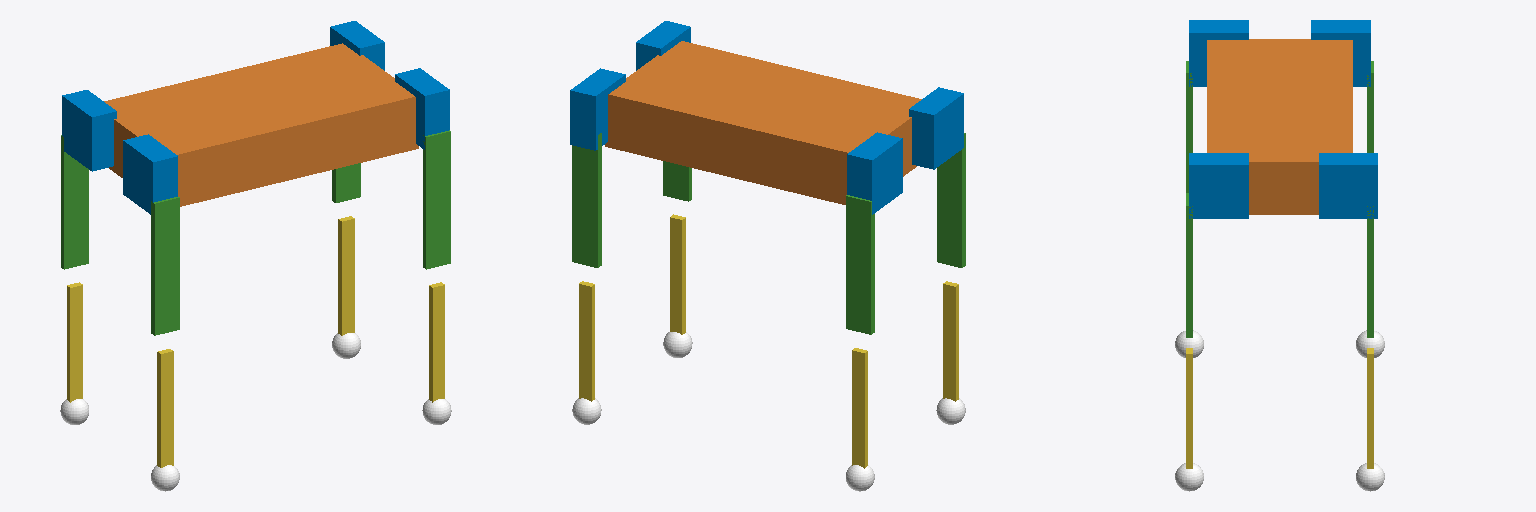
The robot description file, URDF, robot "Cat":
<?xml version="1.0" ?>
<!-- =================================================================================== -->
<!-- |    This document was autogenerated by xacro from model8.urdf.xacro              | -->
<!-- |    EDITING THIS FILE BY HAND IS NOT RECOMMENDED                                 | -->
<!-- =================================================================================== -->
<!--
            z    y
            ^   ^
            |  /
            | /
      _______________ > x
-->
<robot name="Cat" xmlns:xacro="http://www.ros.org/wiki/xacro">
  <link name="chassis">
    <collision>
      <origin rpy="0 0 0" xyz="0 0 0.005"/>
      <geometry>
        <box size="0.2 0.1 0.04"/>
      </geometry>
    </collision>
    <inertial>
      <mass value="1.0"/>
      <inertia ixx="0.0009666666666666669" ixy="0.0" ixz="0.0" iyy="0.003466666666666667" iyz="0.0" izz="0.0041666666666666675"/>
    </inertial>
    <visual>
      <origin rpy="0 0 0" xyz="0 0 0.005"/>
      <geometry>
        <box size="0.2 0.1 0.04"/>
      </geometry>
      <material name="white">
        <color rgba="0.89 0.548 0.239 1"/>
      </material>
    </visual>
  </link>
  <link name="fl1_link">
    <collision>
      <origin rpy="0 0 0" xyz="-0.0 -0.005 0.01"/>
      <geometry>
        <box size="0.02 0.041 0.041"/>
      </geometry>
    </collision>
    <inertial>
      <mass value="0.14"/>
      <inertia ixx="3.922333333333334e-05" ixy="0.0" ixz="0.0" iyy="2.4278333333333338e-05" iyz="0.0" izz="2.4278333333333338e-05"/>
    </inertial>
    <visual>
      <origin rpy="0 0 0" xyz="-0.0 -0.005 0.01"/>
      <geometry>
        <box size="0.02 0.041 0.041"/>
      </geometry>
      <material name="white">
        <color rgba="0.0 0.56 0.854 1"/>
      </material>
    </visual>
  </link>
  <link name="fl2_link">
    <collision>
      <origin rpy="0 0 0" xyz="0 0 -0.03"/>
      <geometry>
        <box size="0.02 0.005 0.1"/>
      </geometry>
    </collision>
    <inertial>
      <mass value="0.02"/>
      <inertia ixx="1.6708333333333337e-05" ixy="0.0" ixz="0.0" iyy="1.7333333333333336e-05" iyz="0.0" izz="7.083333333333334e-07"/>
    </inertial>
    <visual>
      <origin rpy="0 0 0" xyz="0 0 -0.03"/>
      <geometry>
        <box size="0.02 0.005 0.1"/>
      </geometry>
      <material name="white">
        <color rgba="0.316 0.669 0.261 1"/>
      </material>
    </visual>
  </link>
  <link name="fl3_link">
    <collision>
      <origin rpy="0 0 0" xyz="0 0.0 -0.04"/>
      <geometry>
        <box size="0.01 0.005 0.09"/>
      </geometry>
    </collision>
    <inertial>
      <mass value="0.03"/>
      <inertia ixx="2.03125e-05" ixy="0.0" ixz="0.0" iyy="2.0499999999999993e-05" iyz="0.0" izz="3.1249999999999997e-07"/>
    </inertial>
    <visual>
      <origin rpy="0 0 0" xyz="0 0.0 -0.04"/>
      <geometry>
        <box size="0.01 0.005 0.09"/>
      </geometry>
      <material name="white">
        <color rgba="0.917 0.814 0.261 1"/>
      </material>
    </visual>
  </link>
  <link name="fl4_link">
    <collision>
      <origin rpy="0 0 0" xyz="0 0.0 0.01"/>
      <geometry>
        <sphere radius="0.01"/>
      </geometry>
    </collision>
    <inertial>
      <mass value="0.01"/>
      <origin xyz="0 0 0"/>
      <inertia ixx="1.0000000000000001e-07" ixy="0.0" ixz="0.0" iyy="1.0000000000000001e-07" iyz="0.0" izz="1.0000000000000001e-07"/>
    </inertial>
    <contact>
      <friction_anchor/>
      <stiffness value="10000.0"/>
      <inertia_scaling value="0.1"/>
      <damping value="10.0"/>
      <lateral_friction value="1"/>
    </contact>
    <visual>
      <origin rpy="0 0 0" xyz="0 0.0 0.01"/>
      <geometry>
        <sphere radius="0.01"/>
      </geometry>
      <material name="white">
        <color rgba="1 1 1 1"/>
      </material>
    </visual>
  </link>
  <link name="fr1_link">
    <collision>
      <origin rpy="0 0 0" xyz="0.0 0.01 0.01"/>
      <geometry>
        <box size="0.02 0.041 0.041"/>
      </geometry>
    </collision>
    <inertial>
      <mass value="0.14"/>
      <inertia ixx="3.922333333333334e-05" ixy="0.0" ixz="0.0" iyy="2.4278333333333338e-05" iyz="0.0" izz="2.4278333333333338e-05"/>
    </inertial>
    <visual>
      <origin rpy="0 0 0" xyz="0.0 0.01 0.01"/>
      <geometry>
        <box size="0.02 0.041 0.041"/>
      </geometry>
      <material name="white">
        <color rgba="0.0 0.56 0.854 1"/>
      </material>
    </visual>
  </link>
  <link name="fr2_link">
    <collision>
      <origin rpy="0 0 0" xyz="0 0 -0.03"/>
      <geometry>
        <box size="0.02 0.005 0.1"/>
      </geometry>
    </collision>
    <inertial>
      <mass value="0.02"/>
      <inertia ixx="1.6708333333333337e-05" ixy="0.0" ixz="0.0" iyy="1.7333333333333336e-05" iyz="0.0" izz="7.083333333333334e-07"/>
    </inertial>
    <visual>
      <origin rpy="0 0 0" xyz="0 0 -0.03"/>
      <geometry>
        <box size="0.02 0.005 0.1"/>
      </geometry>
      <material name="white">
        <color rgba="0.316 0.669 0.261 1"/>
      </material>
    </visual>
  </link>
  <link name="fr3_link">
    <collision>
      <origin rpy="0 0 0" xyz="0 0.0 -0.04"/>
      <geometry>
        <box size="0.01 0.005 0.09"/>
      </geometry>
    </collision>
    <inertial>
      <mass value="0.03"/>
      <inertia ixx="2.03125e-05" ixy="0.0" ixz="0.0" iyy="2.0499999999999993e-05" iyz="0.0" izz="3.1249999999999997e-07"/>
    </inertial>
    <visual>
      <origin rpy="0 0 0" xyz="0 0.0 -0.04"/>
      <geometry>
        <box size="0.01 0.005 0.09"/>
      </geometry>
      <material name="white">
        <color rgba="0.917 0.814 0.261 1"/>
      </material>
    </visual>
  </link>
  <link name="fr4_link">
    <collision>
      <origin rpy="0 0 0" xyz="0 0.0 0.01"/>
      <geometry>
        <sphere radius="0.01"/>
      </geometry>
    </collision>
    <inertial>
      <mass value="0.01"/>
      <origin xyz="0 0 0"/>
      <inertia ixx="1.0000000000000001e-07" ixy="0.0" ixz="0.0" iyy="1.0000000000000001e-07" iyz="0.0" izz="1.0000000000000001e-07"/>
    </inertial>
    <contact>
      <friction_anchor/>
      <stiffness value="10000.0"/>
      <inertia_scaling value="0.1"/>
      <damping value="10.0"/>
      <lateral_friction value="1"/>
    </contact>
    <visual>
      <origin rpy="0 0 0" xyz="0 0.0 0.01"/>
      <geometry>
        <sphere radius="0.01"/>
      </geometry>
      <material name="white">
        <color rgba="1 1 1 1"/>
      </material>
    </visual>
  </link>
  <link name="bl1_link">
    <collision>
      <origin rpy="0 0 0" xyz="0.0 -0.01 0.01"/>
      <geometry>
        <box size="0.02 0.041 0.041"/>
      </geometry>
    </collision>
    <inertial>
      <mass value="0.14"/>
      <inertia ixx="3.922333333333334e-05" ixy="0.0" ixz="0.0" iyy="2.4278333333333338e-05" iyz="0.0" izz="2.4278333333333338e-05"/>
    </inertial>
    <visual>
      <origin rpy="0 0 0" xyz="0.0 -0.01 0.01"/>
      <geometry>
        <box size="0.02 0.041 0.041"/>
      </geometry>
      <material name="white">
        <color rgba="0.0 0.56 0.854 1"/>
      </material>
    </visual>
  </link>
  <link name="bl2_link">
    <collision>
      <origin rpy="0 0 0" xyz="0 0 -0.03"/>
      <geometry>
        <box size="0.02 0.005 0.1"/>
      </geometry>
    </collision>
    <inertial>
      <mass value="0.02"/>
      <inertia ixx="1.6708333333333337e-05" ixy="0.0" ixz="0.0" iyy="1.7333333333333336e-05" iyz="0.0" izz="7.083333333333334e-07"/>
    </inertial>
    <visual>
      <origin rpy="0 0 0" xyz="0 0 -0.03"/>
      <geometry>
        <box size="0.02 0.005 0.1"/>
      </geometry>
      <material name="white">
        <color rgba="0.316 0.669 0.261 1"/>
      </material>
    </visual>
  </link>
  <link name="bl3_link">
    <collision>
      <origin rpy="0 0 0" xyz="0 0.0 -0.04"/>
      <geometry>
        <box size="0.01 0.005 0.09"/>
      </geometry>
    </collision>
    <inertial>
      <mass value="0.03"/>
      <inertia ixx="2.03125e-05" ixy="0.0" ixz="0.0" iyy="2.0499999999999993e-05" iyz="0.0" izz="3.1249999999999997e-07"/>
    </inertial>
    <visual>
      <origin rpy="0 0 0" xyz="0 0.0 -0.04"/>
      <geometry>
        <box size="0.01 0.005 0.09"/>
      </geometry>
      <material name="white">
        <color rgba="0.917 0.814 0.261 1"/>
      </material>
    </visual>
  </link>
  <link name="bl4_link">
    <collision>
      <origin rpy="0 0 0" xyz="0 0.0 0.01"/>
      <geometry>
        <sphere radius="0.01"/>
      </geometry>
    </collision>
    <inertial>
      <mass value="0.01"/>
      <origin xyz="0 0 0"/>
      <inertia ixx="1.0000000000000001e-07" ixy="0.0" ixz="0.0" iyy="1.0000000000000001e-07" iyz="0.0" izz="1.0000000000000001e-07"/>
    </inertial>
    <contact>
      <friction_anchor/>
      <stiffness value="10000.0"/>
      <inertia_scaling value="0.1"/>
      <damping value="10.0"/>
      <lateral_friction value="1"/>
    </contact>
    <visual>
      <origin rpy="0 0 0" xyz="0 0.0 0.01"/>
      <geometry>
        <sphere radius="0.01"/>
      </geometry>
      <material name="white">
        <color rgba="1 1 1 1"/>
      </material>
    </visual>
  </link>
  <link name="br1_link">
    <collision>
      <origin rpy="0 0 0" xyz="0.0 0.01 0.01"/>
      <geometry>
        <box size="0.02 0.041 0.041"/>
      </geometry>
    </collision>
    <inertial>
      <mass value="0.14"/>
      <inertia ixx="3.922333333333334e-05" ixy="0.0" ixz="0.0" iyy="2.4278333333333338e-05" iyz="0.0" izz="2.4278333333333338e-05"/>
    </inertial>
    <visual>
      <origin rpy="0 0 0" xyz="0.0 0.01 0.01"/>
      <geometry>
        <box size="0.02 0.041 0.041"/>
      </geometry>
      <material name="white">
        <color rgba="0.0 0.56 0.854 1"/>
      </material>
    </visual>
  </link>
  <link name="br2_link">
    <collision>
      <origin rpy="0 0 0" xyz="0 0 -0.03"/>
      <geometry>
        <box size="0.02 0.005 0.1"/>
      </geometry>
    </collision>
    <inertial>
      <mass value="0.02"/>
      <inertia ixx="1.6708333333333337e-05" ixy="0.0" ixz="0.0" iyy="1.6833333333333334e-05" iyz="0.0" izz="2.0833333333333333e-07"/>
    </inertial>
    <visual>
      <origin rpy="0 0 0" xyz="0 0 -0.03"/>
      <geometry>
        <box size="0.02 0.005 0.1"/>
      </geometry>
      <material name="white">
        <color rgba="0.316 0.669 0.261 1"/>
      </material>
    </visual>
  </link>
  <link name="br3_link">
    <collision>
      <origin rpy="0 0 0" xyz="0 0.0 -0.04"/>
      <geometry>
        <box size="0.01 0.005 0.09"/>
      </geometry>
    </collision>
    <inertial>
      <mass value="0.03"/>
      <inertia ixx="2.03125e-05" ixy="0.0" ixz="0.0" iyy="2.0499999999999993e-05" iyz="0.0" izz="3.1249999999999997e-07"/>
    </inertial>
    <visual>
      <origin rpy="0 0 0" xyz="0 0.0 -0.04"/>
      <geometry>
        <box size="0.01 0.005 0.09"/>
      </geometry>
      <material name="white">
        <color rgba="0.917 0.814 0.261 1"/>
      </material>
    </visual>
  </link>
  <link name="br4_link">
    <collision>
      <origin rpy="0 0 0" xyz="0 0.0 0.01"/>
      <geometry>
        <sphere radius="0.01"/>
      </geometry>
    </collision>
    <inertial>
      <mass value="0.01"/>
      <origin xyz="0 0 0"/>
      <inertia ixx="1.0000000000000001e-07" ixy="0.0" ixz="0.0" iyy="1.0000000000000001e-07" iyz="0.0" izz="1.0000000000000001e-07"/>
    </inertial>
    <contact>
      <friction_anchor/>
      <stiffness value="10000.0"/>
      <inertia_scaling value="0.1"/>
      <damping value="10.0"/>
      <lateral_friction value="1"/>
    </contact>
    <visual>
      <origin rpy="0 0 0" xyz="0 0.0 0.01"/>
      <geometry>
        <sphere radius="0.01"/>
      </geometry>
      <material name="white">
        <color rgba="1 1 1 1"/>
      </material>
    </visual>
  </link>
  <link name="mz_link">
    <collision>
      <origin rpy="0 0 0" xyz="0 0.0 0.0"/>
      <geometry>
        <box size="0.05 0.05 0.01"/>
      </geometry>
    </collision>
    <inertial>
      <mass value="0.0001"/>
      <inertia ixx="0.001" ixy="0.0" ixz="0.0" iyy="0.001" iyz="0.0" izz="0.001"/>
    </inertial>
  </link>
  <link name="my_link">
    <collision>
      <origin rpy="0 0 0" xyz="0 0.0 0.0"/>
      <geometry>
        <box size="0.02 0.02 0.05"/>
      </geometry>
    </collision>
    <inertial>
      <mass value="0.0001"/>
      <inertia ixx="0.001" ixy="0.0" ixz="0.0" iyy="0.001" iyz="0.0" izz="0.001"/>
    </inertial>
  </link>
  <!-- front left -->
  <joint name="fl1" type="revolute">
    <parent link="chassis"/>
    <child link="fl1_link"/>
    <origin rpy="0 0 0" xyz="0.1075 0.052 0"/>
    <axis xyz="1 0 0"/>
    <limit effort="100" lower="-0.398132" upper="0.698132" velocity="100"/>
  </joint>
  <joint name="fl2" type="revolute">
    <parent link="fl1_link"/>
    <child link="fl2_link"/>
    <origin rpy="0 0 0" xyz="0 0.01 -0.02"/>
    <axis xyz="0 1 0"/>
    <limit effort="100" lower="-1.22173" upper="1.22173" velocity="100"/>
  </joint>
  <joint name="fl3" type="revolute">
    <parent link="fl2_link"/>
    <child link="fl3_link"/>
    <origin rpy="0 0 0" xyz="0 0.0 -0.1"/>
    <axis xyz="0 1 0"/>
    <limit effort="100" lower="-3.14159265359" upper="0.0" velocity="100"/>
  </joint>
  <joint name="fl4" type="fixed">
    <parent link="fl3_link"/>
    <child link="fl4_link"/>
    <origin rpy="0 0 0" xyz="0 0 -0.1"/>
    <axis xyz="0 1 0"/>
    <limit effort="100" lower="-3.14159265359" upper="3.14159265359" velocity="100"/>
  </joint>
  <!-- front right -->
  <joint name="fr1" type="revolute">
    <parent link="chassis"/>
    <child link="fr1_link"/>
    <origin rpy="0 0 0" xyz="0.1075 -0.052 0"/>
    <axis xyz="1 0 0"/>
    <limit effort="100" lower="-0.698132" upper="0.398132" velocity="100"/>
  </joint>
  <joint name="fr2" type="revolute">
    <parent link="fr1_link"/>
    <child link="fr2_link"/>
    <origin rpy="0 0 0" xyz="0 -0.01 -0.02"/>
    <axis xyz="0 1 0"/>
    <limit effort="100" lower="-1.22173" upper="1.22173" velocity="100"/>
  </joint>
  <joint name="fr3" type="revolute">
    <parent link="fr2_link"/>
    <child link="fr3_link"/>
    <origin rpy="0 0 0" xyz="0 0.0 -0.1"/>
    <axis xyz="0 1 0"/>
    <limit effort="100" lower="-3.14159265359" upper="0.0" velocity="100"/>
  </joint>
  <joint name="fr4" type="fixed">
    <parent link="fr3_link"/>
    <child link="fr4_link"/>
    <origin rpy="0 0 0" xyz="0 0 -0.1"/>
    <axis xyz="0 1 0"/>
    <limit effort="100" lower="-3.14159265359" upper="3.14159265359" velocity="100"/>
  </joint>
  <!-- back left -->
  <joint name="bl1" type="revolute">
    <parent link="chassis"/>
    <child link="bl1_link"/>
    <origin rpy="0 0 0" xyz="-0.1075 0.052 0"/>
    <axis xyz="1 0 0"/>
    <limit effort="100" lower="-0.398132" upper="0.698132" velocity="100"/>
  </joint>
  <joint name="bl2" type="revolute">
    <parent link="bl1_link"/>
    <child link="bl2_link"/>
    <origin rpy="0 0 0" xyz="0 0.01 -0.02"/>
    <axis xyz="0 1 0"/>
    <limit effort="100" lower="-1.22173" upper="1.22173" velocity="100"/>
  </joint>
  <joint name="bl3" type="revolute">
    <parent link="bl2_link"/>
    <child link="bl3_link"/>
    <origin rpy="0 0 0" xyz="0 0.0 -0.1"/>
    <axis xyz="0 1 0"/>
    <limit effort="100" lower="-3.14159265359" upper="0.0" velocity="100"/>
  </joint>
  <joint name="bl4" type="fixed">
    <parent link="bl3_link"/>
    <child link="bl4_link"/>
    <origin rpy="0 0 0" xyz="0 0 -0.1"/>
    <axis xyz="0 1 0"/>
    <limit effort="100" lower="-3.14159265359" upper="3.14159265359" velocity="100"/>
  </joint>
  <!-- back right -->
  <joint name="br1" type="revolute">
    <parent link="chassis"/>
    <child link="br1_link"/>
    <origin rpy="0 0 0" xyz="-0.1075 -0.052 0"/>
    <axis xyz="1 0 0"/>
    <limit effort="100" lower="-0.698132" upper="0.398132" velocity="100"/>
  </joint>
  <joint name="br2" type="revolute">
    <parent link="br1_link"/>
    <child link="br2_link"/>
    <origin rpy="0 0 0" xyz="0 -0.01 -0.02"/>
    <axis xyz="0 1 0"/>
    <limit effort="100" lower="-1.22173" upper="1.22173" velocity="100"/>
  </joint>
  <joint name="br3" type="revolute">
    <parent link="br2_link"/>
    <child link="br3_link"/>
    <origin rpy="0 0 0" xyz="0 0.0 -0.1"/>
    <axis xyz="0 1 0"/>
    <limit effort="100" lower="-3.14159265359" upper="0.0" velocity="100"/>
  </joint>
  <joint name="br4" type="fixed">
    <parent link="br3_link"/>
    <child link="br4_link"/>
    <origin rpy="0 0 0" xyz="0 0 -0.1"/>
    <axis xyz="0 1 0"/>
    <limit effort="100" lower="-3.14159265359" upper="3.14159265359" velocity="100"/>
  </joint>
  <joint name="mz" type="revolute">
    <parent link="chassis"/>
    <child link="mz_link"/>
    <origin rpy="0 0 0" xyz="0.15 0 0"/>
    <axis xyz="0 0 1"/>
    <limit effort="100" lower="-1.57079632679" upper="1.57079632679" velocity="100"/>
  </joint>
  <joint name="my" type="revolute">
    <parent link="mz_link"/>
    <child link="my_link"/>
    <origin rpy="0 0 0" xyz="0.03 0 0.03"/>
    <axis xyz="0 1 0"/>
    <limit effort="100" lower="-1.57079632679" upper="1.57079632679" velocity="100"/>
  </joint>
</robot>

--- What the picture shows (computed from the rendered views, not written in the file) ---
The picture shows the robot from 3 angles, left to right: view 1: azimuth 30°, elevation 25°; view 2: azimuth 150°, elevation 25°; view 3: azimuth 270°, elevation 25°; orthographic projection.
Model Cat with 19 links and 18 joints (14 revolute, 4 fixed), rooted at chassis, posed every joint at zero.
Visible links, largest first — view 1: chassis, br2_link, fr2_link, bl1_link, br1_link, bl2_link, fr1_link, fl3_link, br3_link, fr3_link, bl3_link, fl1_link (+5 smaller); view 2: chassis, bl2_link, br1_link, fl2_link, bl1_link, br2_link, fl1_link, fl3_link, fr3_link, bl3_link, br3_link, fr1_link (+5 smaller); view 3: chassis, fr1_link, fl1_link, bl1_link, br1_link, fr2_link, fl2_link, fl3_link, fr3_link, br2_link, fl4_link, fr4_link (+3 smaller).
Boxes of the visible links, x1,y1,x2,y2 form: chassis: (104, 43, 418, 206); br2_link: (151, 197, 179, 335); fr2_link: (423, 130, 450, 269); bl1_link: (62, 90, 116, 171); br1_link: (123, 134, 177, 214); bl2_link: (61, 135, 88, 269); fr1_link: (395, 68, 449, 149); fl3_link: (338, 216, 354, 335); br3_link: (157, 349, 173, 467); fr3_link: (429, 282, 444, 402); bl3_link: (67, 282, 82, 402); fl1_link: (330, 21, 384, 70); chassis: (605, 41, 921, 204); bl2_link: (846, 195, 874, 334); br1_link: (909, 87, 963, 169); fl2_link: (572, 133, 601, 267); bl1_link: (847, 132, 902, 214); br2_link: (937, 133, 965, 267); fl1_link: (570, 68, 625, 150); fl3_link: (579, 281, 594, 401); fr3_link: (670, 214, 685, 334); bl3_link: (852, 348, 867, 468); br3_link: (943, 281, 958, 401); fr1_link: (636, 21, 690, 70); chassis: (1207, 39, 1352, 214); fr1_link: (1189, 153, 1248, 218); fl1_link: (1319, 153, 1377, 218); bl1_link: (1311, 20, 1370, 86); br1_link: (1189, 20, 1248, 86); fr2_link: (1186, 193, 1192, 337); fl2_link: (1367, 206, 1373, 337); fl3_link: (1367, 348, 1373, 468); fr3_link: (1186, 348, 1192, 468); br2_link: (1186, 61, 1192, 192); fl4_link: (1356, 463, 1384, 491); fr4_link: (1175, 463, 1203, 491).
Size in the robot's own frame: 0.235 by 0.144 by 0.2505 metres.
Geometry: primitives only (box / cylinder / sphere), no mesh files.